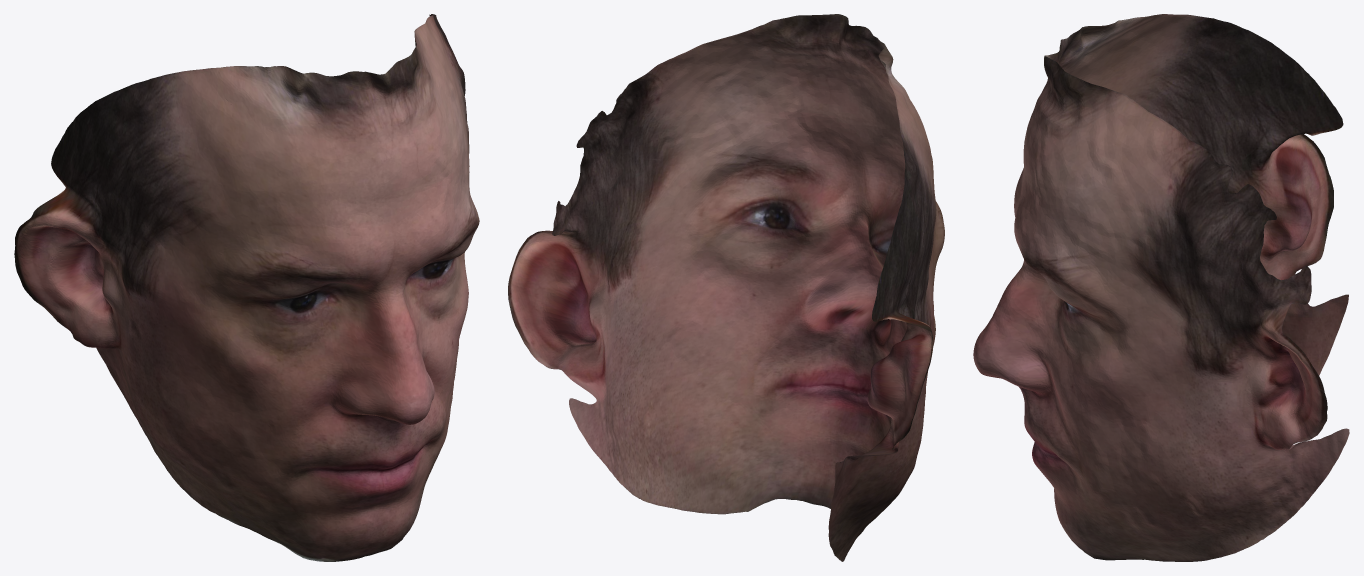
File: merge3d.obj
The picture shows the model from 3 angles, left to right: view 1: azimuth 30°, elevation 25°; view 2: azimuth 150°, elevation 25°; view 3: azimuth 270°, elevation 25°; orthographic projection. The views are drawn at different scales.
Visible parts, largest first — view 1: merge3d; view 2: merge3d; view 3: merge3d.
Boxes of the visible parts, x1,y1,x2,y2 form: merge3d: (14,14,479,561); merge3d: (508,14,944,561); merge3d: (973,14,1349,561).
Size of the model in its own units: 19.87 by 21.66 by 15.16.
1 material, 1 textured.
